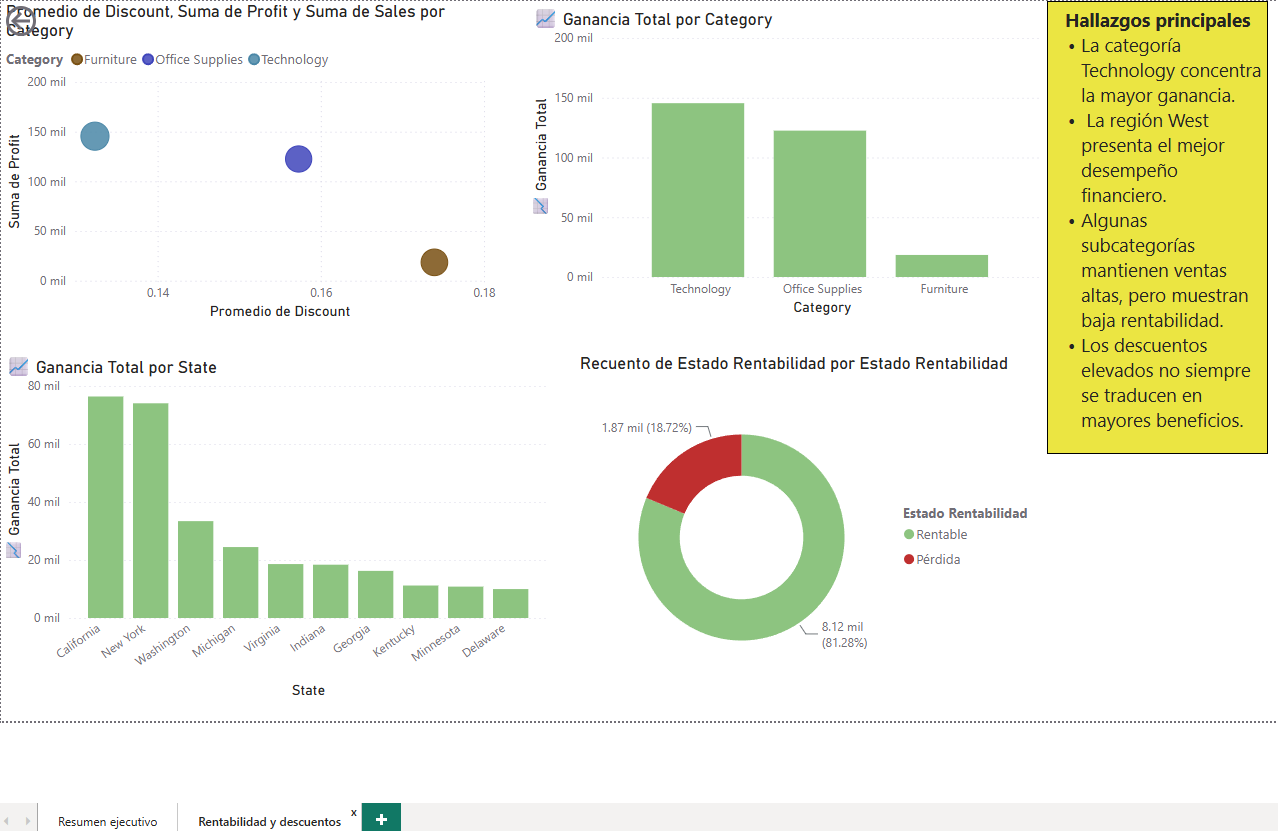

Layout of this report page (visuals, bound fields, positions):
{"tool":"powerbi","page":{"name":"Rentabilidad y descuentos","canvas":[1280,720],"ordinal":1},"visuals":[{"type":"scatterChart","fields":{"Size":["Sum(SampleSuperstore.Sales)"],"Series":["SampleSuperstore.Category"],"Y":["Sum(SampleSuperstore.Profit)"],"X":["Avg(SampleSuperstore.Discount)"]},"box":[0,0,500,323],"z":0},{"type":"columnChart","fields":{"Category":["SampleSuperstore.Category"],"Y":["SampleSuperstore.Ganancia Total"]},"box":[527,4,519,315],"z":1},{"type":"lineStackedColumnComboChart","fields":{"Category":["SampleSuperstore.State"],"Y":["SampleSuperstore.Ganancia Total"]},"box":[0,352,551,350],"z":2},{"type":"donutChart","fields":{"Category":["SampleSuperstore.Estado Rentabilidad"],"Y":["CountNonNull(SampleSuperstore.Estado Rentabilidad)"]},"box":[574,352,472,350],"z":3},{"type":"actionButton","box":[0,0,100,40],"z":4},{"type":"textbox","box":[1046,0,221,453],"z":5}]}

Visuals, with their boxes on the page's 1280x720 design canvas (x1, y1, x2, y2). These are canvas units, not pixel positions in the 1278x831 screenshot, which may show the page scaled, cropped or inside an application window:
scatterChart - Sum(SampleSuperstore.Sales) x SampleSuperstore.Category: [x1=0, y1=0, x2=500, y2=323]
columnChart - SampleSuperstore.Category x SampleSuperstore.Ganancia Total: [x1=527, y1=4, x2=1046, y2=319]
lineStackedColumnComboChart - SampleSuperstore.State x SampleSuperstore.Ganancia Total: [x1=0, y1=352, x2=551, y2=702]
donutChart - SampleSuperstore.Estado Rentabilidad x CountNonNull(SampleSuperstore.Estado Rentabilidad): [x1=574, y1=352, x2=1046, y2=702]
actionButton: [x1=0, y1=0, x2=100, y2=40]
textbox: [x1=1046, y1=0, x2=1267, y2=453]
